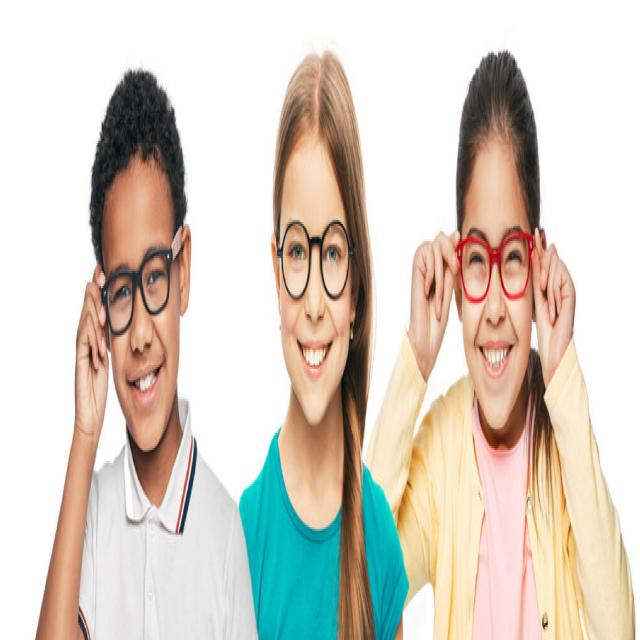Glasses: (101, 222, 181, 339), (274, 216, 352, 305), (456, 229, 535, 306)
